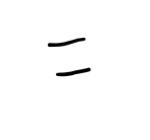eqv: (48, 37, 91, 76)
